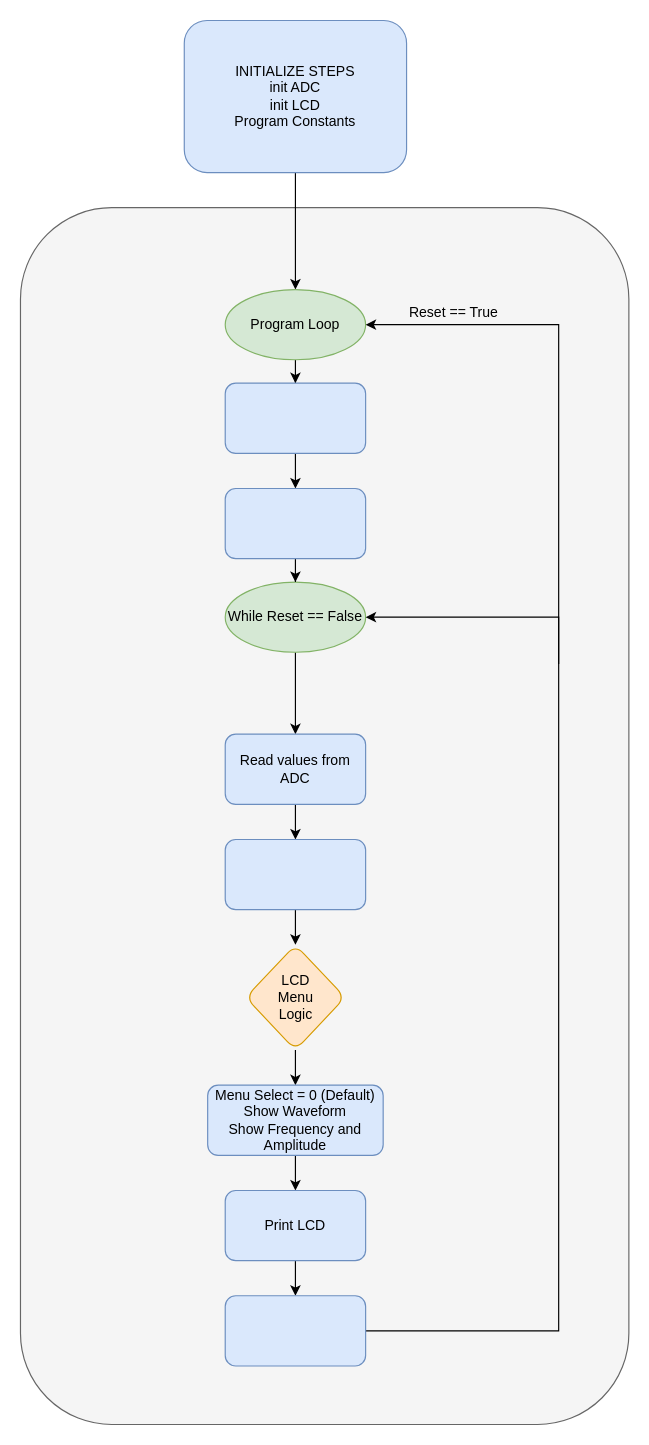
Some shapes in this 649 by 1445 pixel diagram are drawn without their labels. Each missing label, with the centre of its shape:
"Average and Interpret Data" goes at (x=295, y=874).
"Initialize/Reset Variables" goes at (x=295, y=523).
"Splash Screen" goes at (x=295, y=417).
"Toggle onboard LED Sleep Garbage Collect" goes at (x=295, y=1330).
